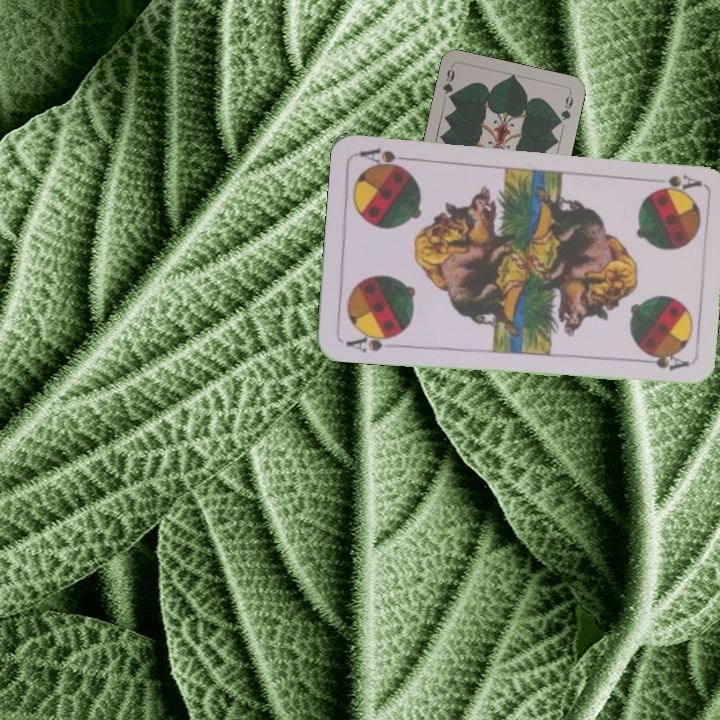G9: (439, 63, 457, 105)
SA: (341, 328, 400, 355), (644, 170, 704, 194)
